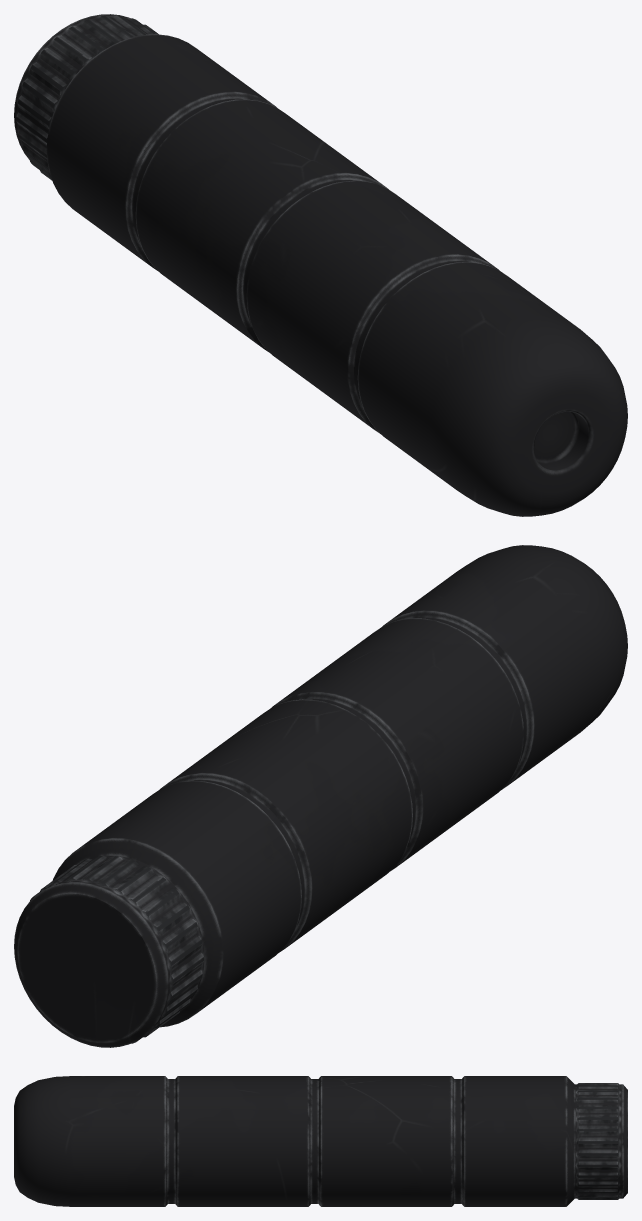
Rendered from Suppressor_Pistol.fbx.
3 views of the same model, one above another, from view 1: azimuth 30°, elevation 25°; view 2: azimuth 150°, elevation 25°; view 3: azimuth 270°, elevation 25° (orthographic). The views are drawn at different scales.
Parts seen in each view (by area): view 1: Body; view 2: Body; view 3: Body.
Part boxes in pixels (bbox=[...]): Body: bbox=[14, 14, 627, 516]; Body: bbox=[14, 545, 627, 1047]; Body: bbox=[14, 1076, 627, 1206].
Bounding box in the file's own units: 0.032 × 0.032 × 0.15.
